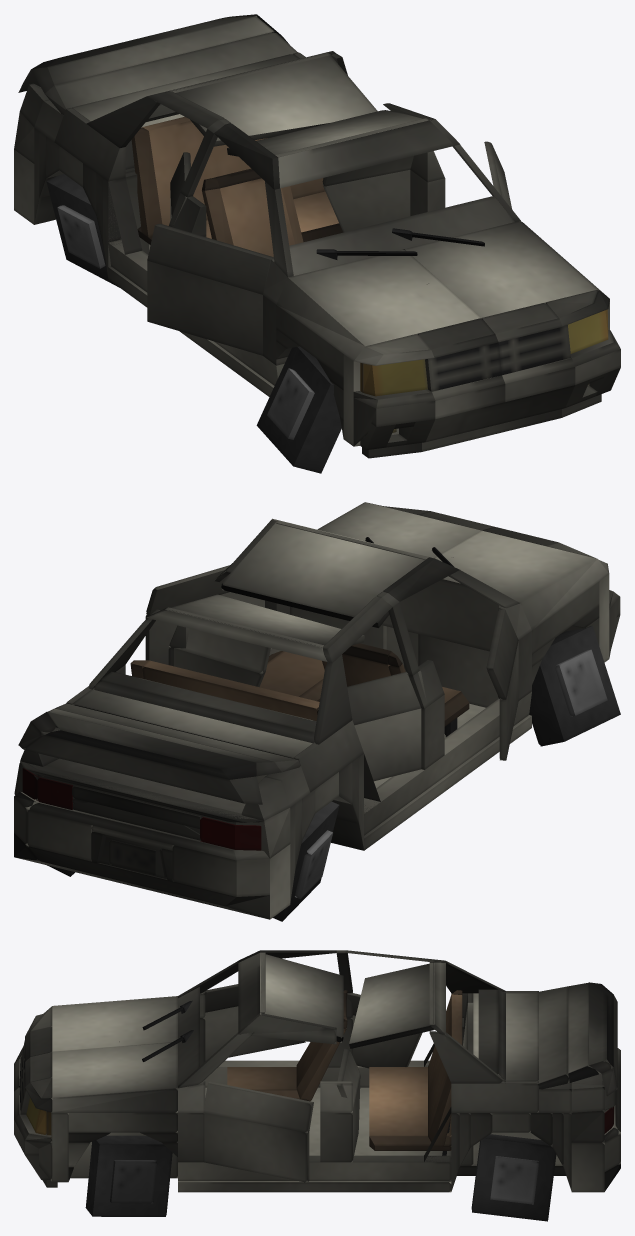
The model's file is wreckage5.obj.
The picture shows the model from 3 angles, top to bottom: view 1: azimuth 30°, elevation 25°; view 2: azimuth 150°, elevation 25°; view 3: azimuth 270°, elevation 25°; orthographic projection. The views are drawn at different scales.
Parts seen in each view (by area): view 1: baseModel4, baseModel24, baseModel192, baseModel186, baseModel160, baseModel96, baseModel140, baseModel175, baseModel187, baseModel162, baseModel70, baseModel185 (+58 smaller); view 2: baseModel193, baseModel4, baseModel175, baseModel147, baseModel163, baseModel5, baseModel149, baseModel96, baseModel142, baseModel24, baseModel164, baseModel165 (+51 smaller); view 3: baseModel24, baseModel4, baseModel182, baseModel2, baseModel192, baseModel115, baseModel193, baseModel174, baseModel176, baseModel68, baseModel183, baseModel142 (+58 smaller).
Part boxes in pixels (<box>): baseModel4: <box>276,249,481,361</box>; baseModel24: <box>404,221,609,317</box>; baseModel192: <box>172,53,377,146</box>; baseModel186: <box>147,261,262,355</box>; baseModel160: <box>45,32,297,114</box>; baseModel96: <box>289,196,514,275</box>; baseModel140: <box>275,118,454,188</box>; baseModel175: <box>256,346,341,473</box>; baseModel187: <box>147,224,273,294</box>; baseModel162: <box>31,14,281,93</box>; baseModel70: <box>142,117,325,225</box>; baseModel185: <box>323,170,410,232</box>; baseModel193: <box>221,518,428,627</box>; baseModel4: <box>433,530,608,630</box>; baseModel175: <box>529,625,620,746</box>; baseModel147: <box>18,721,262,804</box>; baseModel163: <box>31,712,256,779</box>; baseModel5: <box>364,691,531,835</box>; baseModel149: <box>92,671,316,743</box>; baseModel96: <box>381,579,501,651</box>; baseModel142: <box>73,687,312,758</box>; baseModel24: <box>317,502,480,557</box>; baseModel164: <box>14,833,269,919</box>; baseModel165: <box>172,845,269,896</box>; baseModel24: <box>52,1043,177,1112</box>; baseModel4: <box>52,996,177,1051</box>; baseModel182: <box>203,1113,309,1182</box>; baseModel2: <box>178,1087,451,1192</box>; baseModel192: <box>349,963,434,1048</box>; baseModel115: <box>178,1155,451,1180</box>; baseModel193: <box>260,953,343,1042</box>; baseModel174: <box>85,1135,172,1216</box>; baseModel176: <box>471,1134,556,1221</box>; baseModel68: <box>369,1067,451,1145</box>; baseModel183: <box>203,1081,313,1132</box>; baseModel142: <box>473,993,538,1081</box>.
Bounding box in the file's own units: 3.85 × 2.41 × 6.94.
1 material, 1 textured.
